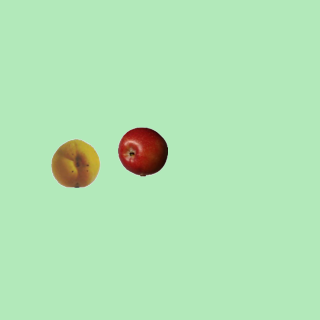Apple Braeburn: (117, 126, 167, 176)
Peach 2: (50, 137, 100, 187)
